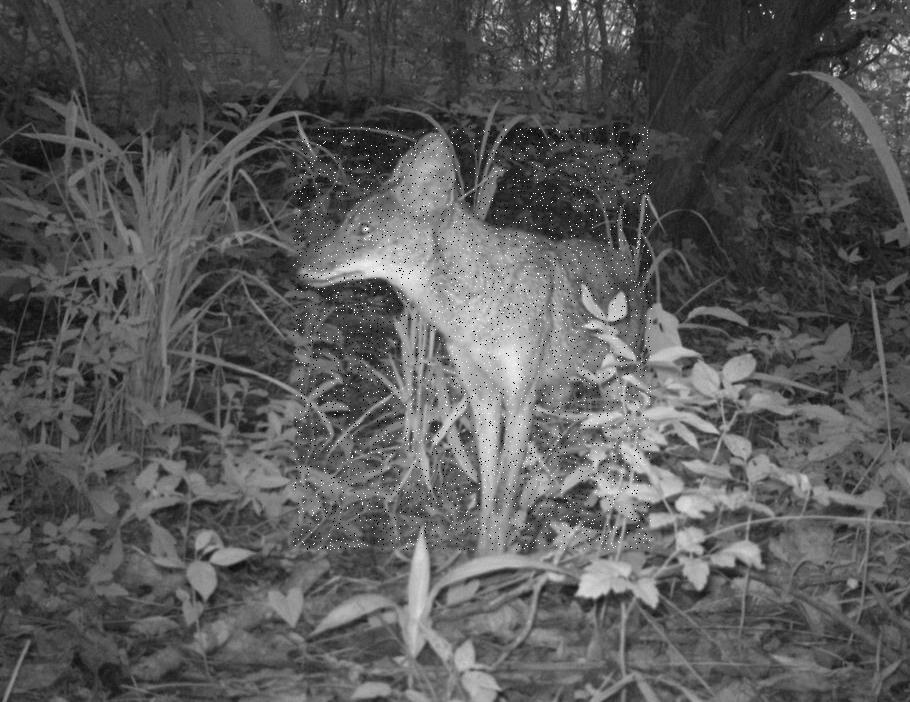Coyote: (293, 127, 652, 550)
